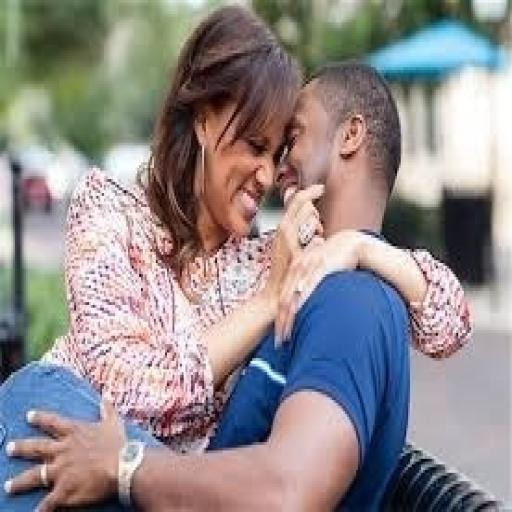hugging: (0, 3, 473, 509)
